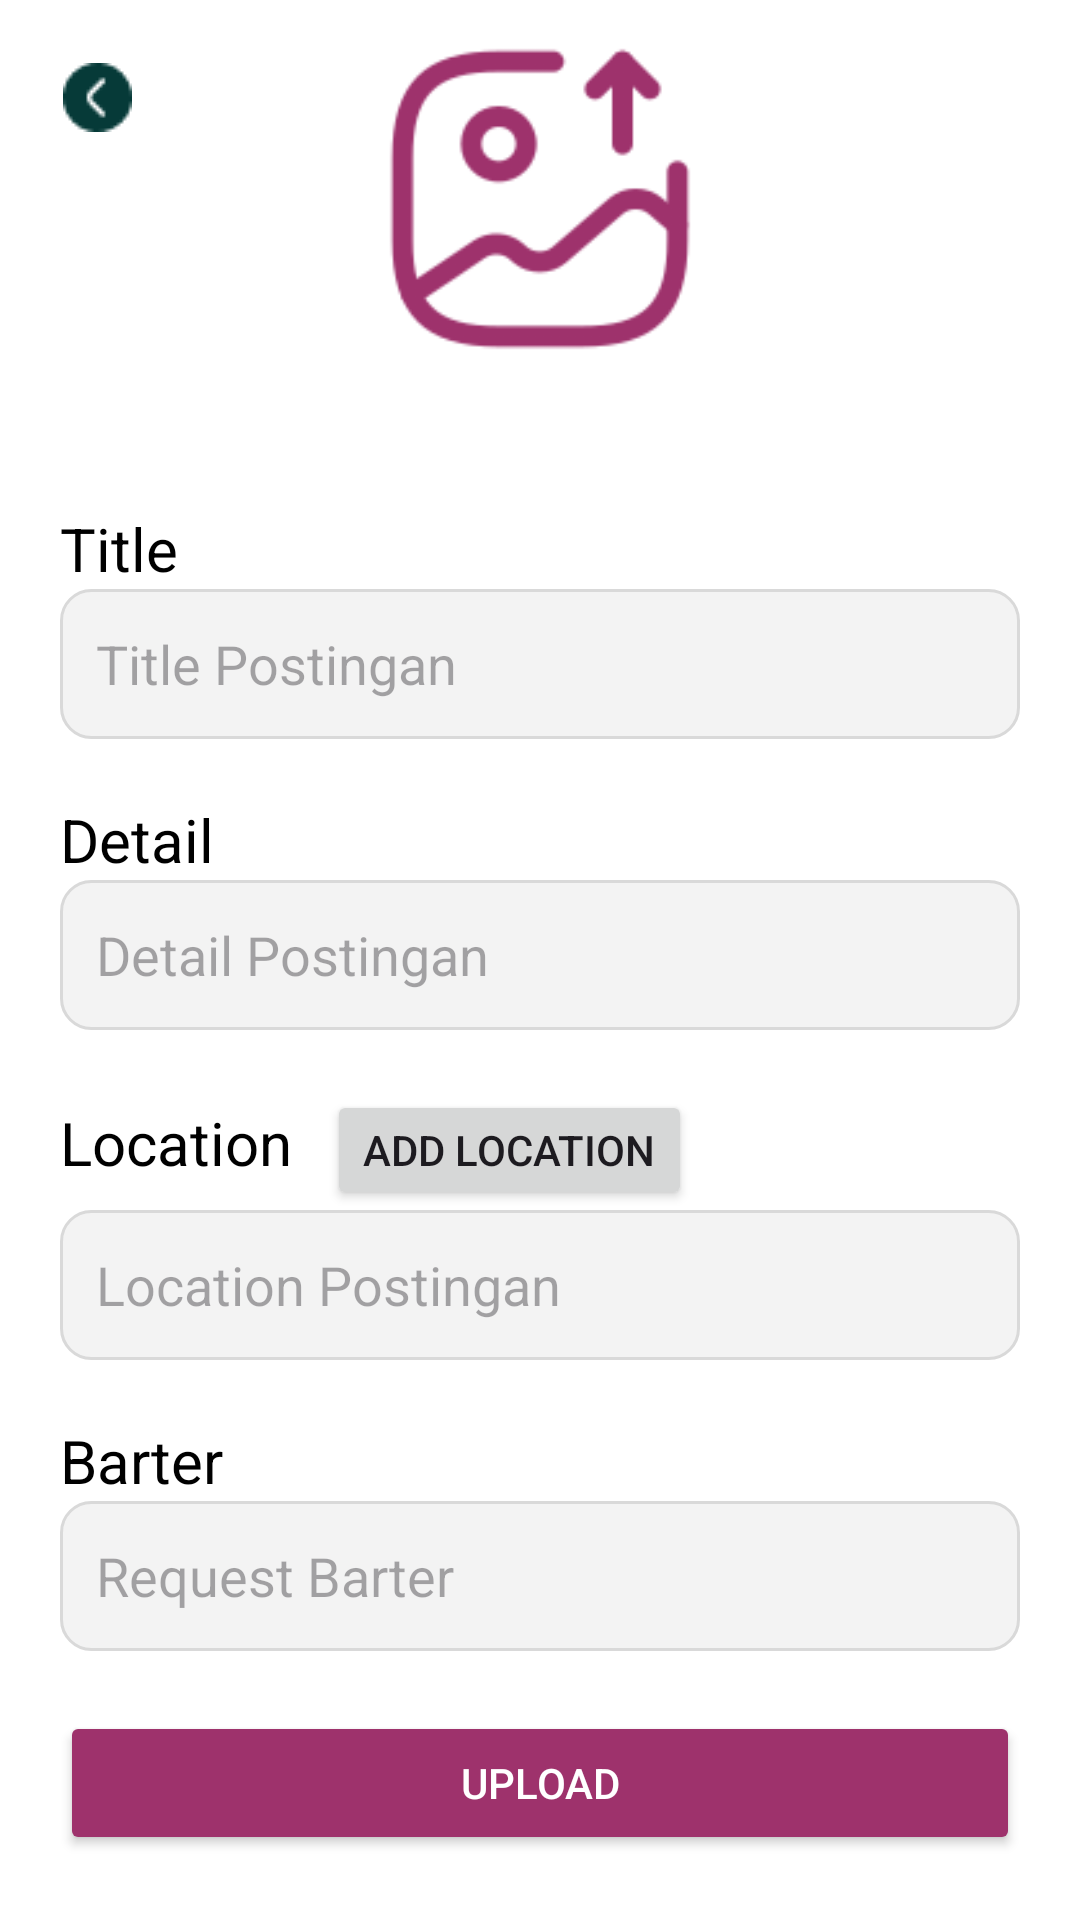

Icons on this 1080 × 1920 Android screen, each with the point to tap as point (x, y):
back: point (97, 97)
imageup: point (540, 199)
